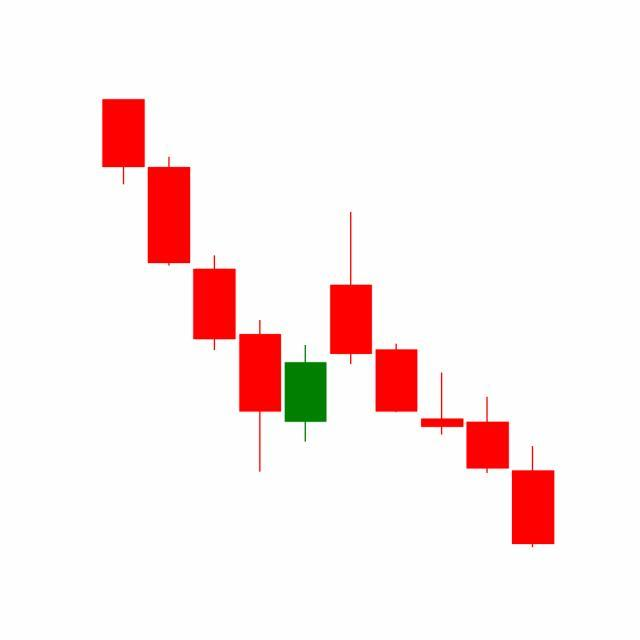Hikkake Pattern: (283, 210, 512, 477)
